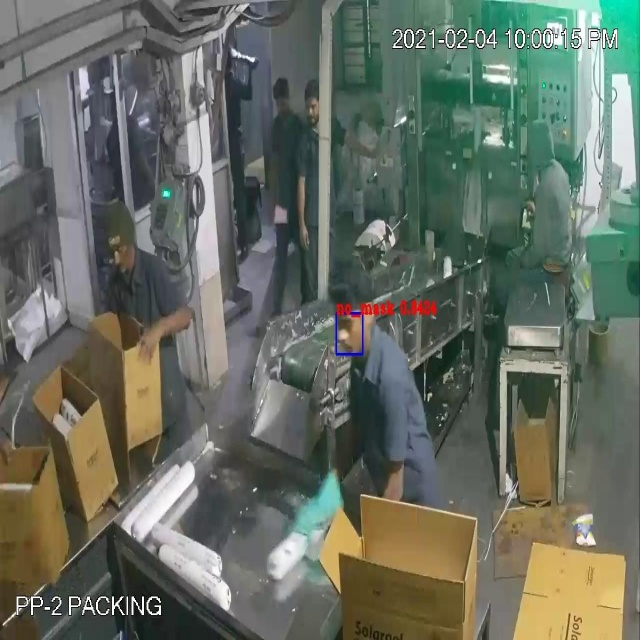Guantes: (270, 465, 359, 559)
Sin_guantes: (125, 304, 202, 366), (293, 167, 317, 260), (340, 127, 391, 168)
